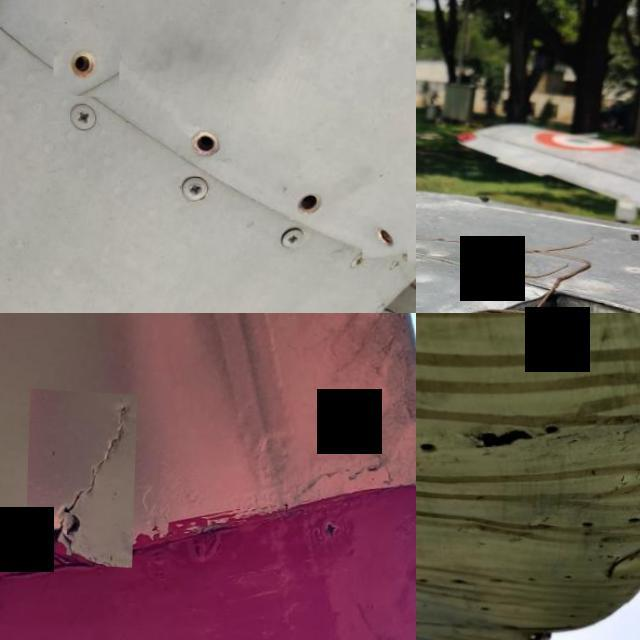Crack: (28, 386, 139, 564), (452, 398, 572, 468), (0, 509, 42, 574)
Missing_Fastener: (54, 26, 122, 95), (172, 106, 234, 167), (277, 170, 338, 230), (365, 210, 411, 254)
